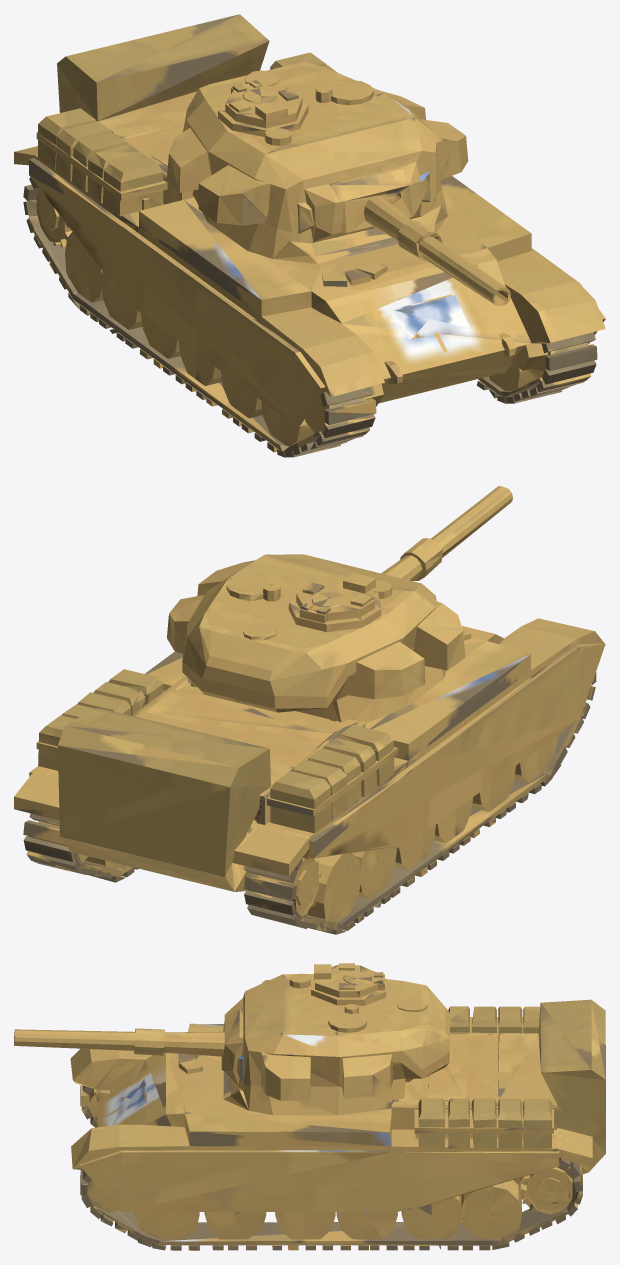
File: golan73_israeli_armor_0.glb
3 renders of one model, top to bottom at view 1: azimuth 30°, elevation 25°; view 2: azimuth 150°, elevation 25°; view 3: azimuth 270°, elevation 25°, orthographic. The views are drawn at different scales.
Visible parts, largest first — view 1: geometry_0; view 2: geometry_0; view 3: geometry_0.
Boxes of the visible parts, <box> form: geometry_0: <box>14,14,605,457</box>; geometry_0: <box>14,486,605,934</box>; geometry_0: <box>14,963,605,1250</box>.
Bounding box in the file's own units: 0.6307 × 0.54 × 1.38.
1 material, 1 textured.
